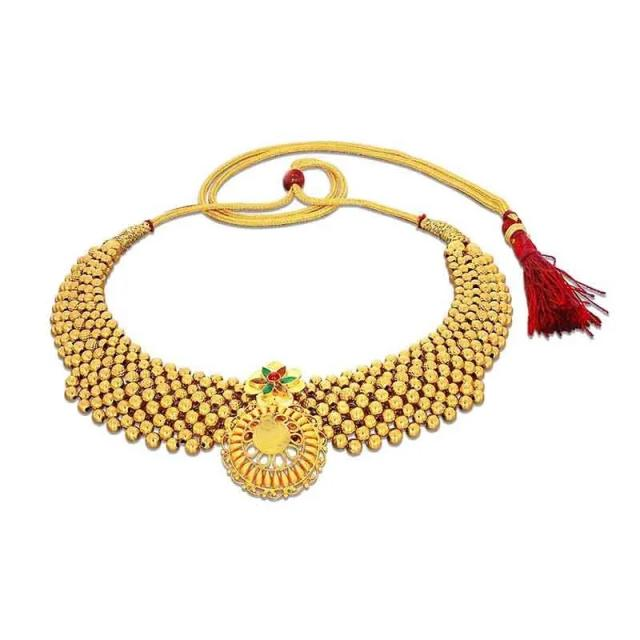missing gem: (257, 423, 287, 450), (262, 416, 271, 421)
